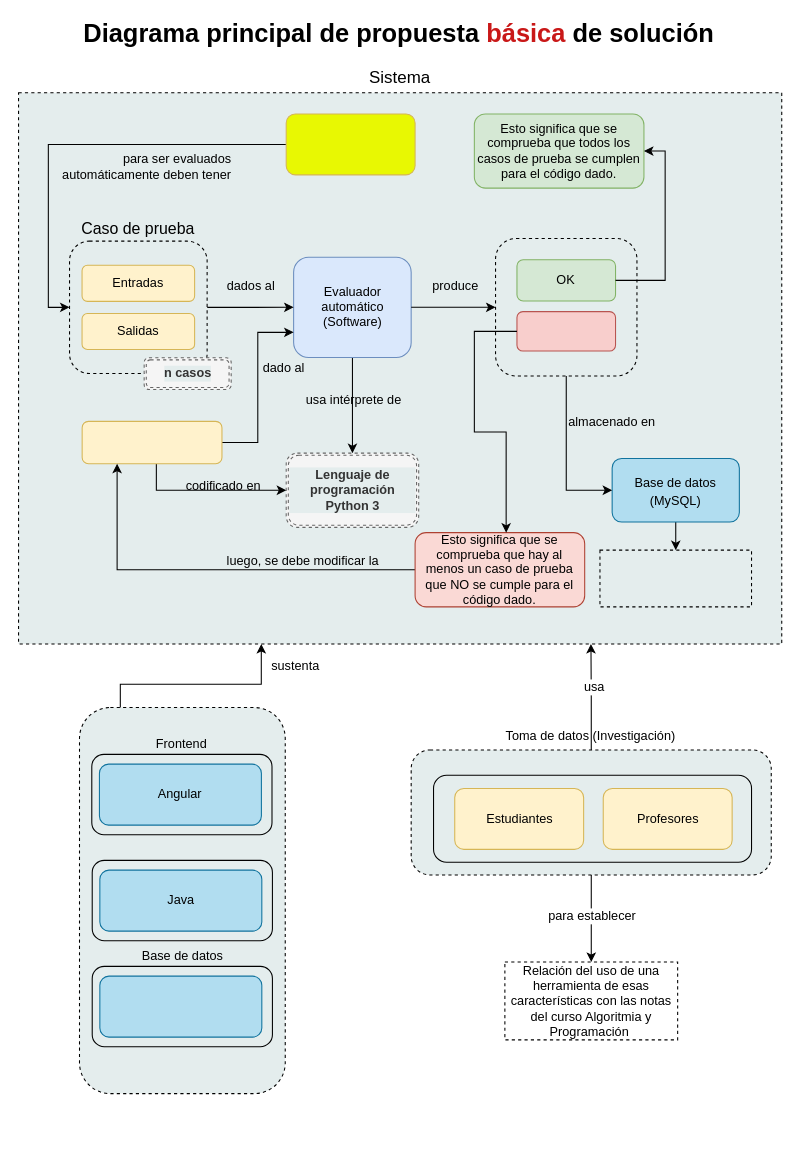
This 800x1170 diagram has some shape labels left out. The shapes that lost their labels are listed below. From the top down, each one's box as (x1, y1, x2, y2) in pixels, then its label:
(285, 113, 415, 175): Ejercicios de programación
(494, 237, 637, 376): Feedback
(516, 311, 616, 351): NO OK
(81, 420, 222, 464): Propuesta (código)
(599, 549, 752, 607): Para hacer seguimiento de las propuestas de solución
(432, 774, 752, 862): Usuarios del sistema / Posible población objetivo
(91, 859, 272, 941): Backend
(78, 706, 285, 1094): Stack tecnológico
(99, 975, 262, 1037): MySQL (motor de bases de datos relacional o SQL)
